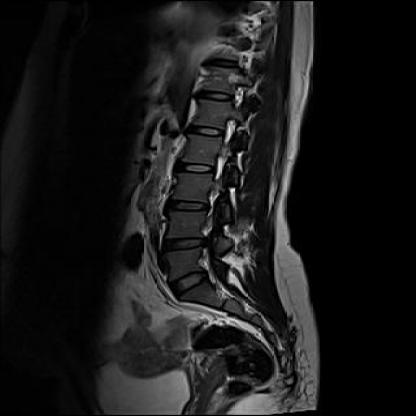Degenerative Disc Diseaserotation: (164, 234, 208, 254)
Disc Herniationrotation: (163, 234, 208, 254)
